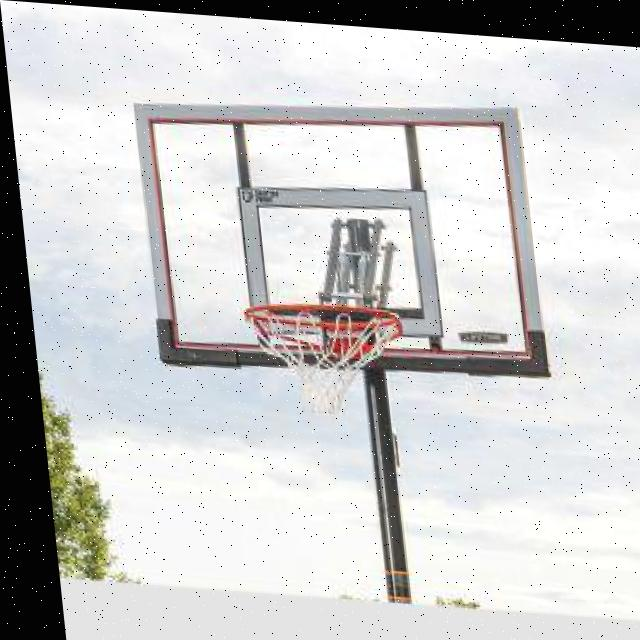hoop: (242, 298, 412, 419)
